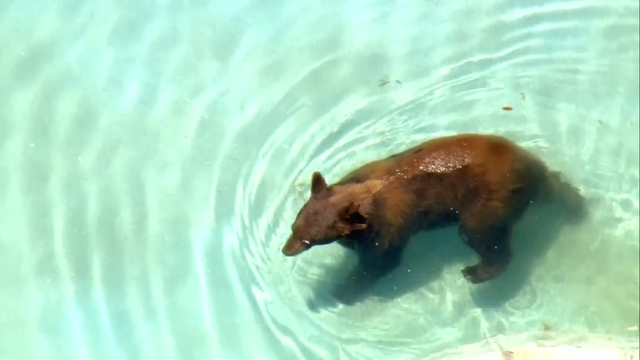bear: (279, 170, 370, 260)
